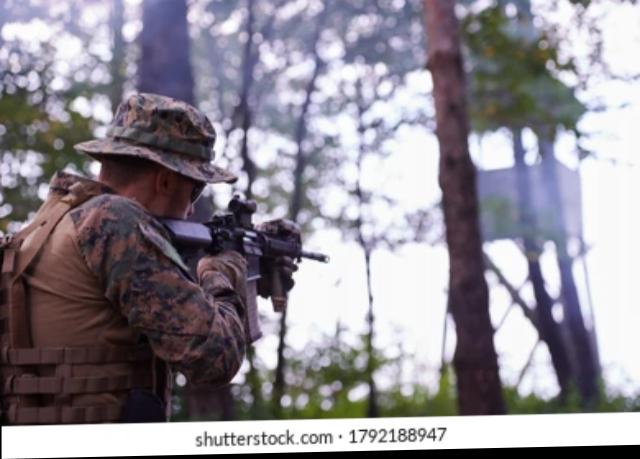other: (11, 102, 259, 418)
